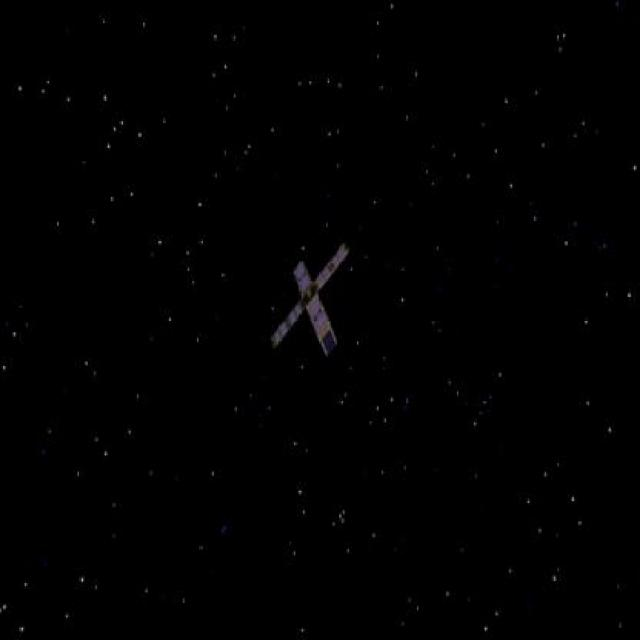medium_debris: (261, 233, 352, 365)
